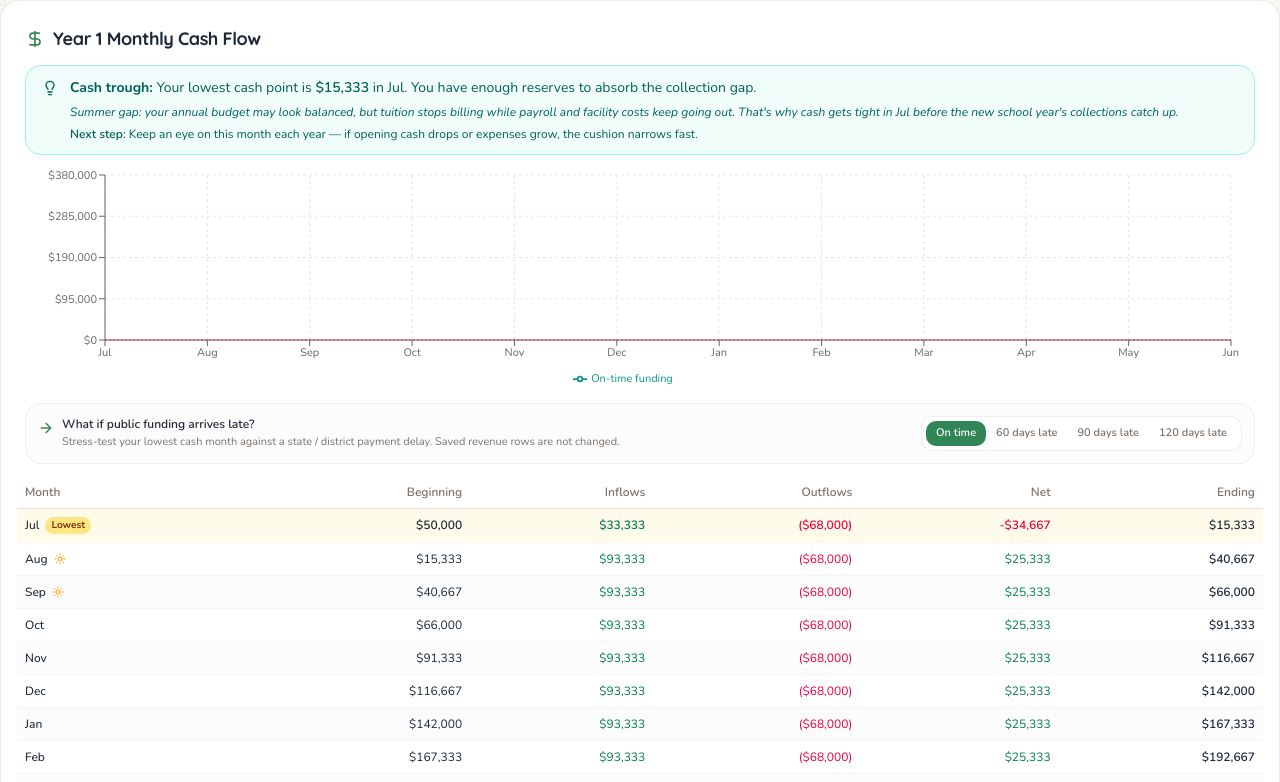
Test: Task #705 — CashFlowSubsection rendering › renders the cash-flow chart with base + delayed scenario series
Expected: the element with test id "cash-flow-chart" is shown, [17,167,1247,391]
Click the radio button with test id "delayed-funding-option-90": (1108, 433) [1068,421,1149,446]
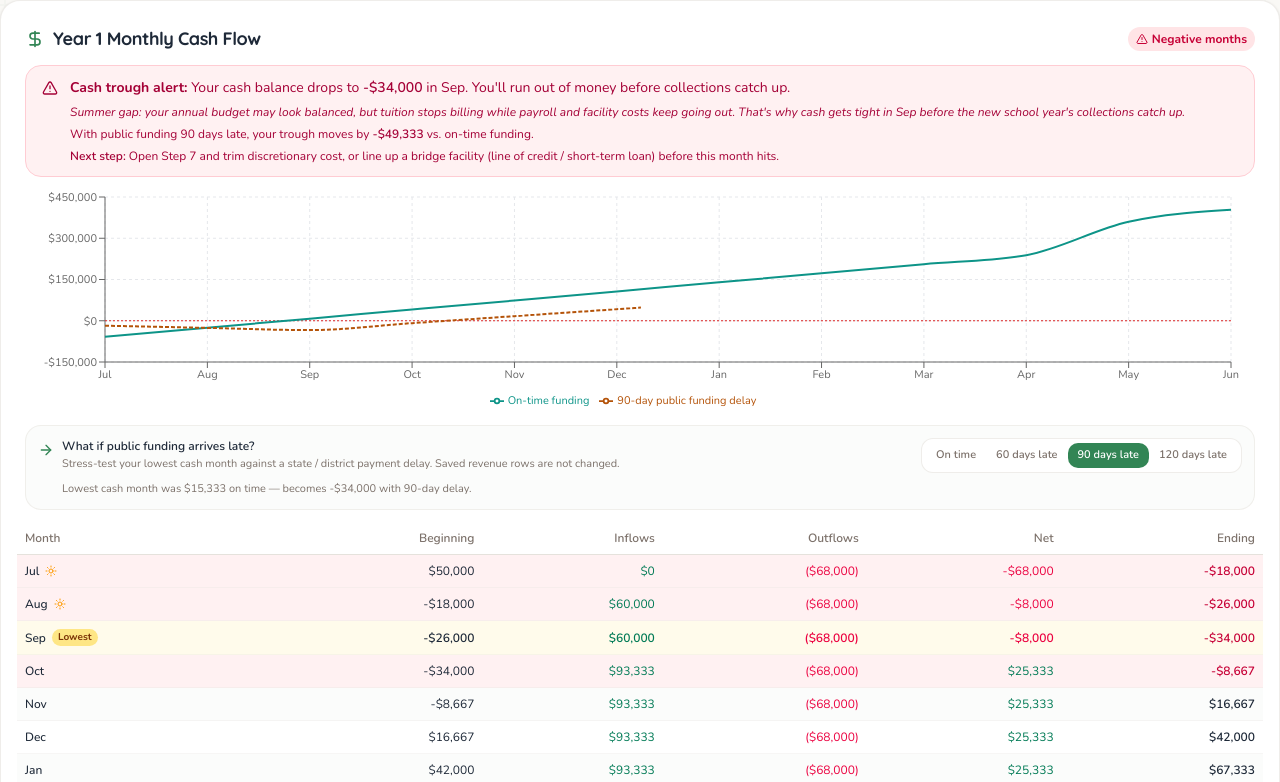
Expected: the text with test id "delayed-funding-readout" shows "90-day delay", [62,480,472,496]
